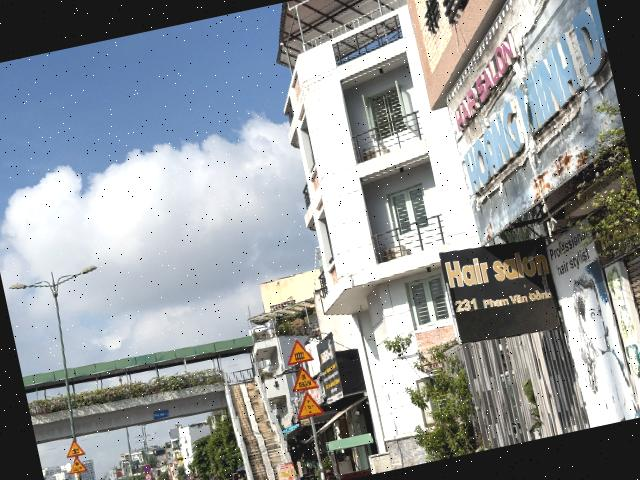chieu-cao-tinh-khong-thuc-te: (292, 388, 325, 420)
di-cham: (287, 364, 319, 392), (66, 454, 88, 474)
noi-giao-nhau-voi-duong-sat-co-rao-chan: (282, 336, 314, 365), (62, 438, 86, 458)
